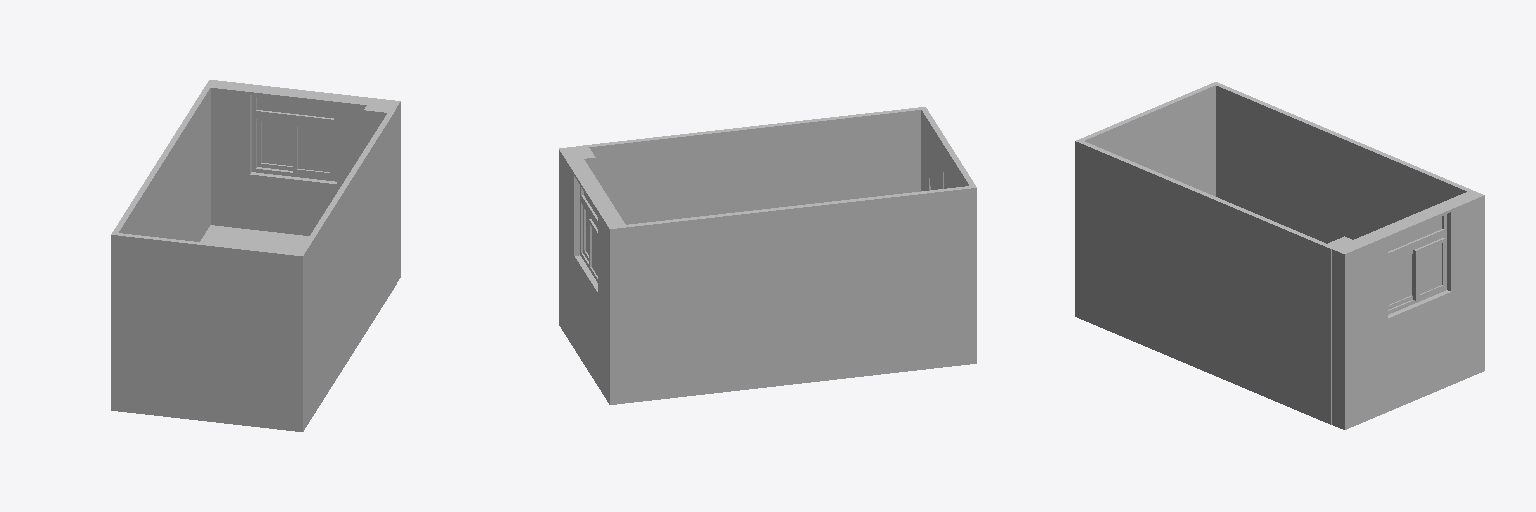
3 views of the same model, side by side, from view 1: azimuth 30°, elevation 25°; view 2: azimuth 150°, elevation 25°; view 3: azimuth 270°, elevation 25° (orthographic).
Visible parts, largest first — view 1: Mesh1 Group1 Model, Mesh3 Group3 Model, Mesh4 Group4 Model, Mesh2 Group2 Model, Mesh5 Group5 Model, Mesh8 Glazing Window_Sliding_Casement_14 Window_Sliding_7_1 Grou, Mesh11 Glazing2 Window_Sliding_Casement_14_1 Window_Sliding_7_1 , Mesh7 Window_Sliding_Main_Frame_7 Window_Sliding_7_1 Group7 Mode, Mesh15 Glazing4 Window_Fixed_2_1 Group7 Model, Mesh10 Window_Sliding_Casement_14 Window_Sliding_7_1 Group7 Mode, Mesh6 Group6 Model, Mesh14 Window_Fixed_Main_Frame_2 Window_Fixed_2_1 Group7 Model; view 2: Mesh5 Group5 Model, Mesh4 Group4 Model, Mesh2 Group2 Model, Mesh3 Group3 Model, Mesh1 Group1 Model, Mesh6 Group6 Model; view 3: Mesh4 Group4 Model, Mesh5 Group5 Model, Mesh3 Group3 Model, Mesh2 Group2 Model, Mesh1 Group1 Model, Mesh6 Group6 Model, Mesh9 Glazing1 Window_Sliding_Casement_14 Window_Sliding_7_1 Gro, Mesh12 Glazing3 Window_Sliding_Casement_14_1 Window_Sliding_7_1 , Mesh13 Window_Sliding_Casement_14_1 Window_Sliding_7_1 Group7 Mo, Mesh16 Glazing5 Window_Fixed_2_1 Group7 Model, Mesh7 Window_Sliding_Main_Frame_7 Window_Sliding_7_1 Group7 Mode.
Boxes of the visible parts, <box> form: Mesh1 Group1 Model: <box>111,232,304,393</box>; Mesh3 Group3 Model: <box>205,80,400,281</box>; Mesh4 Group4 Model: <box>299,108,396,389</box>; Mesh2 Group2 Model: <box>111,225,396,431</box>; Mesh5 Group5 Model: <box>113,87,210,241</box>; Mesh8 Glazing Window_Sliding_Casement_14 Window_Sliding_7_1 Grou: <box>298,127,329,171</box>; Mesh11 Glazing2 Window_Sliding_Casement_14_1 Window_Sliding_7_1 : <box>262,121,292,165</box>; Mesh7 Window_Sliding_Main_Frame_7 Window_Sliding_7_1 Group7 Mode: <box>252,114,336,181</box>; Mesh15 Glazing4 Window_Fixed_2_1 Group7 Model: <box>257,97,333,117</box>; Mesh10 Window_Sliding_Casement_14 Window_Sliding_7_1 Group7 Mode: <box>293,123,333,176</box>; Mesh6 Group6 Model: <box>364,98,400,229</box>; Mesh14 Window_Fixed_Main_Frame_2 Window_Fixed_2_1 Group7 Model: <box>252,95,336,123</box>; Mesh5 Group5 Model: <box>626,186,970,364</box>; Mesh4 Group4 Model: <box>576,107,920,224</box>; Mesh2 Group2 Model: <box>627,325,976,402</box>; Mesh3 Group3 Model: <box>559,147,626,404</box>; Mesh1 Group1 Model: <box>920,107,976,325</box>; Mesh6 Group6 Model: <box>559,147,595,296</box>; Mesh4 Group4 Model: <box>1080,141,1334,386</box>; Mesh5 Group5 Model: <box>1216,84,1470,243</box>; Mesh3 Group3 Model: <box>1332,190,1484,429</box>; Mesh2 Group2 Model: <box>1075,279,1331,424</box>; Mesh1 Group1 Model: <box>1075,82,1219,279</box>; Mesh6 Group6 Model: <box>1326,236,1365,391</box>; Mesh9 Glazing1 Window_Sliding_Casement_14 Window_Sliding_7_1 Gro: <box>1389,254,1411,304</box>; Mesh12 Glazing3 Window_Sliding_Casement_14_1 Window_Sliding_7_1 : <box>1419,244,1441,294</box>; Mesh13 Window_Sliding_Casement_14_1 Window_Sliding_7_1 Group7 Mo: <box>1413,238,1445,300</box>; Mesh16 Glazing5 Window_Fixed_2_1 Group7 Model: <box>1388,217,1441,251</box>; Mesh7 Window_Sliding_Main_Frame_7 Window_Sliding_7_1 Group7 Mode: <box>1388,231,1446,314</box>.
Bounding box in the file's own units: 6.74 × 3.2 × 6.75.